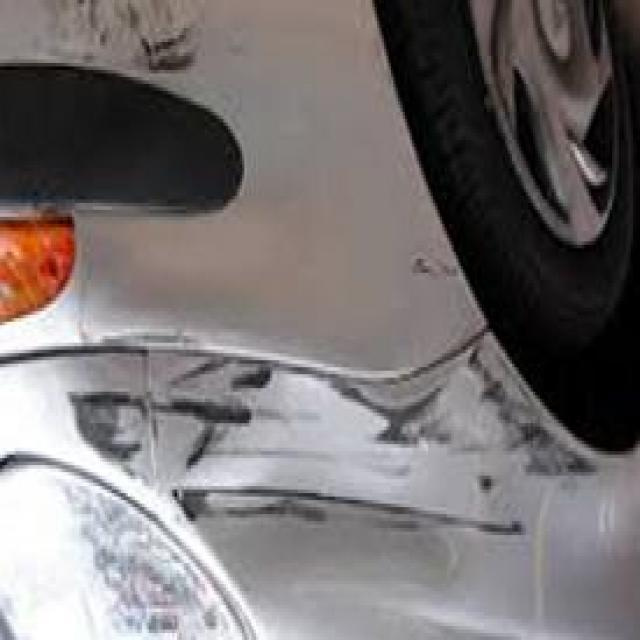scratch: (51, 325, 624, 549)
